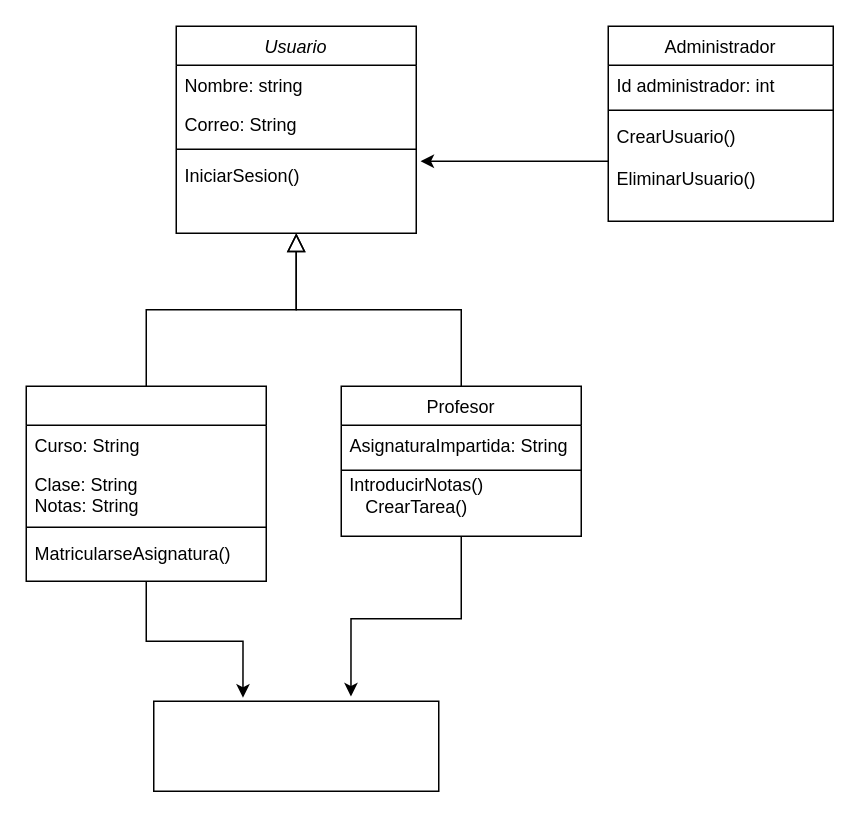
The diagram is 860 pixels wide and 818 high, and some of its shapes have lost their labels. Each missing label, with the box of its shape:
Alumno: (25, 385, 266, 581)
Asignatura Curso : String Cuatrimestre: Int: (152, 700, 439, 791)
